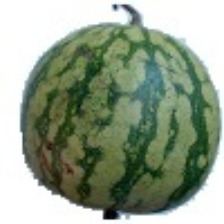watermelon: (29, 26, 192, 165)
